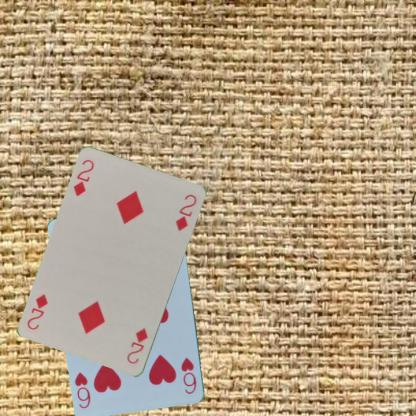2d: (70, 157, 96, 198), (124, 325, 149, 366)
6h: (179, 355, 198, 396)
